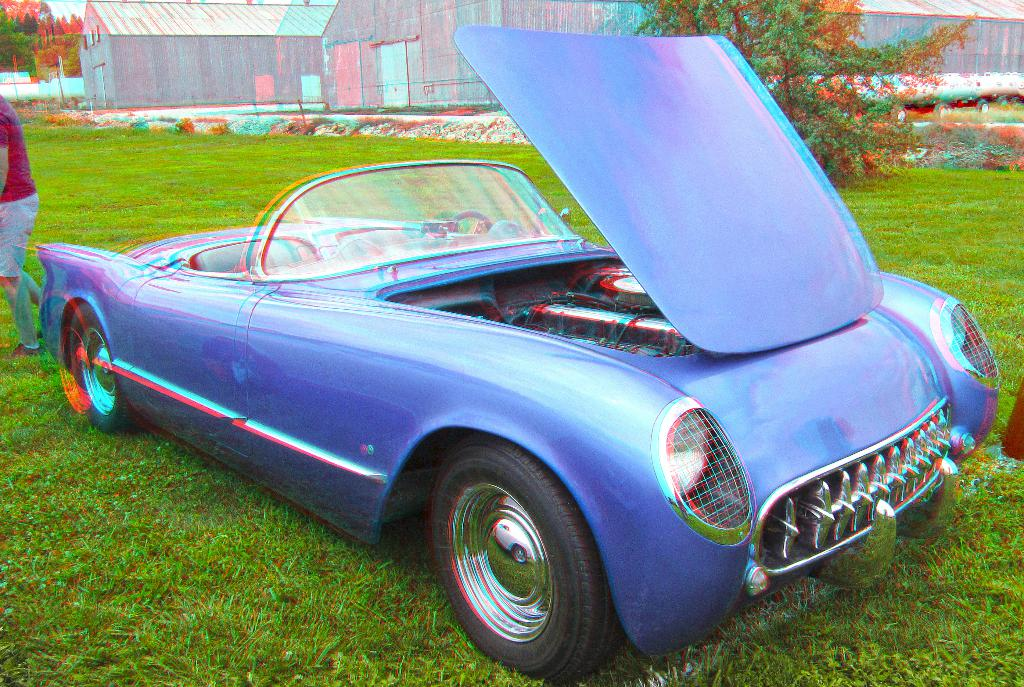Car: (30, 23, 1005, 686)
